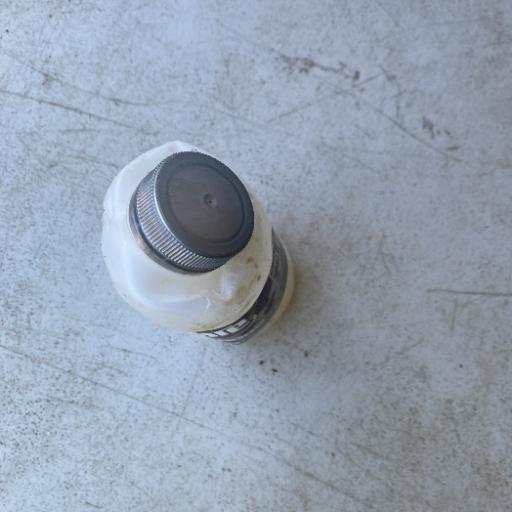Plastic: (98, 138, 297, 347)
